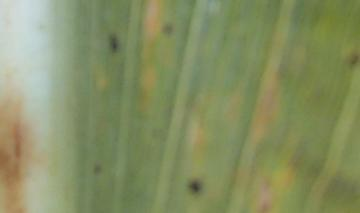tarspot: (189, 178, 202, 195), (110, 35, 119, 54), (162, 22, 173, 36), (349, 54, 360, 66), (94, 162, 103, 175)
